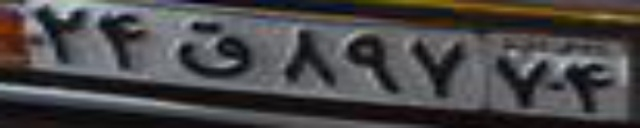2: (30, 6, 87, 64)
4: (560, 63, 617, 113), (96, 13, 145, 69)
7: (407, 36, 468, 97), (493, 55, 550, 108)
8: (276, 29, 335, 86)
9: (340, 31, 401, 93)
ghaf: (166, 22, 255, 78)
